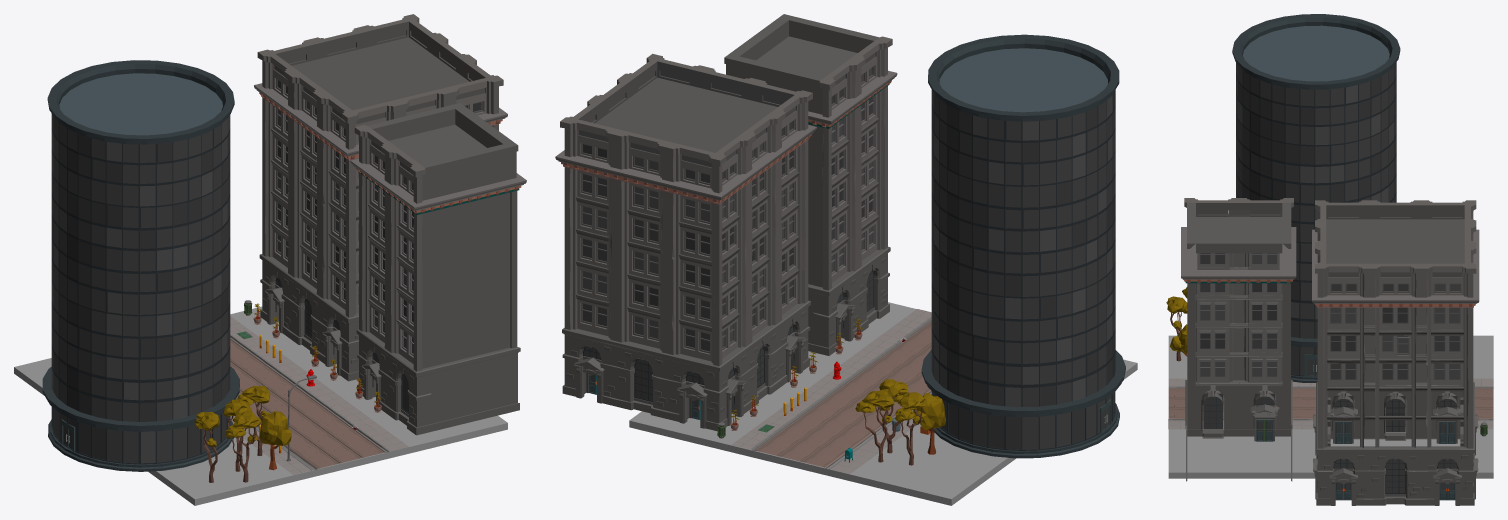
Rendered from City Area 6.fbx.
3 renders of one model, left to right at view 1: azimuth 30°, elevation 25°; view 2: azimuth 150°, elevation 25°; view 3: azimuth 270°, elevation 25°, orthographic. The views are drawn at different scales.
Visible parts, largest first — view 1: SM_Bld_OfficeRound_01, SM_Bld_OfficeOld_Small_02.001, SM_Bld_OfficeOld_Large_01.005, SM_Bld_OfficeRound_Roof_01, SM_Prop_LightPole_Base_01.009, Plane.006, SM_Bld_OfficeRound_Base_01, SM_Bld_OfficeRound_Base_01_Glass, SM_Env_Tree_03.033, SM_Env_Tree_02.046, SM_Env_Tree_02.047, SM_Env_Tree_02.048 (+1 smaller); view 2: SM_Bld_OfficeOld_Large_01.005, SM_Bld_OfficeRound_01, SM_Bld_OfficeOld_Small_02.001, SM_Prop_LightPole_Base_01.009, SM_Bld_OfficeRound_Roof_01, Plane.006, SM_Bld_OfficeRound_Base_01, SM_Bld_OfficeRound_Base_01_Glass, SM_Env_Tree_02.026, SM_Env_Tree_02.044, SM_Env_Tree_03.019, SM_Env_Tree_02.043; view 3: SM_Bld_OfficeOld_Large_01.005, SM_Bld_OfficeOld_Small_02.001, SM_Bld_OfficeRound_01, SM_Bld_OfficeRound_Roof_01, Plane.006, SM_Prop_LightPole_Base_01.009, SM_Bld_OfficeRound_Base_01, SM_Bld_OfficeRound_Base_01_Glass, SM_Env_Tree_02.046.
Part boxes in pixels (x1,y1,x2,y2): SM_Bld_OfficeRound_01: (51,114,230,421); SM_Bld_OfficeOld_Small_02.001: (350,103,526,435); SM_Bld_OfficeOld_Large_01.005: (254,14,507,381); SM_Bld_OfficeRound_Roof_01: (47,60,234,144); SM_Prop_LightPole_Base_01.009: (230,316,408,474); Plane.006: (14,306,507,505); SM_Bld_OfficeRound_Base_01: (42,366,239,471); SM_Bld_OfficeRound_Base_01_Glass: (52,407,229,463); SM_Env_Tree_03.033: (259,411,291,470); SM_Env_Tree_02.046: (225,411,261,482); SM_Env_Tree_02.047: (194,412,219,482); SM_Env_Tree_02.048: (237,385,270,455); SM_Bld_OfficeOld_Large_01.005: (555,53,816,431); SM_Bld_OfficeRound_01: (931,90,1115,407); SM_Bld_OfficeOld_Small_02.001: (724,14,897,355); SM_Prop_LightPole_Base_01.009: (731,309,931,473); SM_Bld_OfficeRound_Roof_01: (928,34,1119,121); Plane.006: (629,302,1137,505); SM_Bld_OfficeRound_Base_01: (921,349,1125,458); SM_Bld_OfficeRound_Base_01_Glass: (932,392,1114,449); SM_Env_Tree_02.026: (855,389,894,462); SM_Env_Tree_02.044: (895,392,926,465); SM_Env_Tree_03.019: (913,392,945,454); SM_Env_Tree_02.043: (879,379,908,453); SM_Bld_OfficeOld_Large_01.005: (1312,200,1479,505); SM_Bld_OfficeOld_Small_02.001: (1181,198,1296,481); SM_Bld_OfficeRound_01: (1236,62,1396,338); SM_Bld_OfficeRound_Roof_01: (1232,14,1400,89); Plane.006: (1168,335,1493,478); SM_Prop_LightPole_Base_01.009: (1168,378,1493,429); SM_Bld_OfficeRound_Base_01: (1291,337,1317,382); SM_Bld_OfficeRound_Base_01_Glass: (1291,346,1317,375); SM_Env_Tree_02.046: (1166,296,1187,361).
Bounding box in the file's own units: 14373 × 10350 × 10080.
